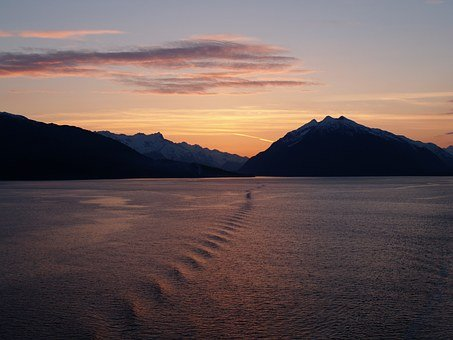ground: (1, 180, 453, 336)
mountain: (6, 109, 453, 175)
sky: (2, 3, 453, 123)
